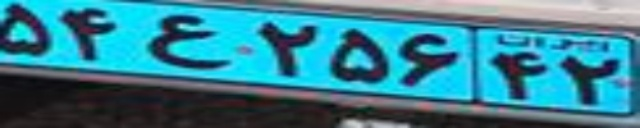2: (254, 22, 319, 78), (559, 54, 622, 105)
4: (56, 6, 121, 62), (489, 52, 551, 100)
5: (326, 26, 392, 84), (0, 1, 54, 56)
6: (397, 32, 459, 86)
ain: (141, 12, 232, 70)
